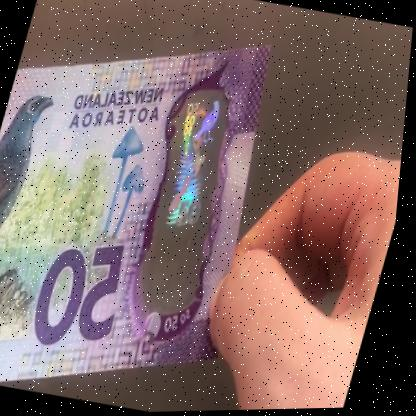50B: (142, 90, 252, 294)
